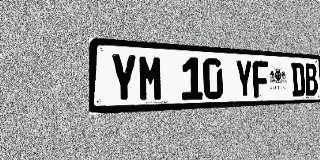0: (203, 58, 223, 100)
1: (181, 57, 203, 100)
B: (304, 63, 318, 96)
D: (291, 62, 305, 96)
F: (252, 60, 269, 98)
M: (138, 54, 163, 102)
Y: (110, 53, 137, 103), (235, 59, 253, 98)
